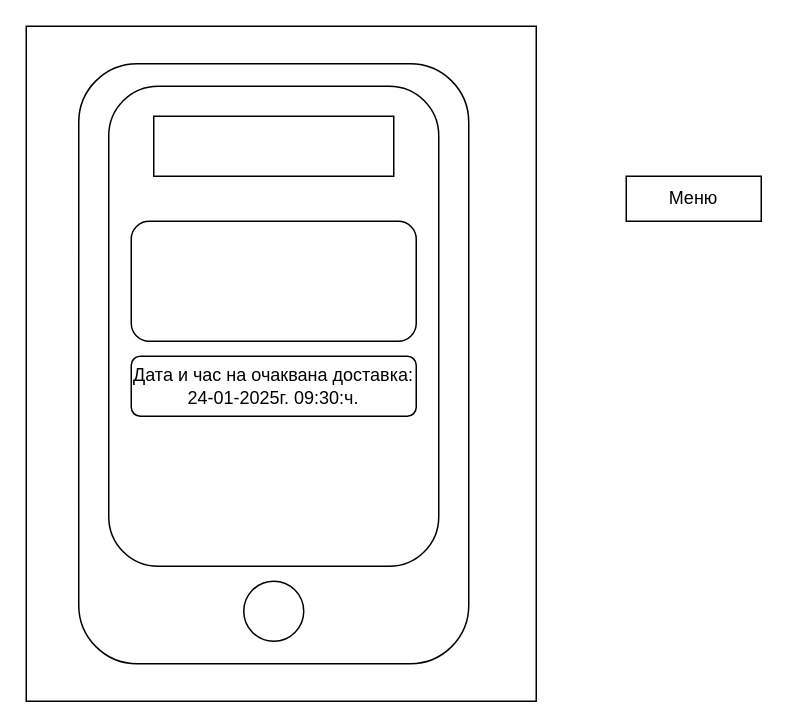
This 788x728 diagram has some shape labels left out. The centre of each missing label's shape, as x and y in pixels:
"Адрес: град. Lorem ipsum ул. Sed ut perspiciatis № 22" belongs at (x=273, y=280).
"Доставка №38310987" belongs at (x=273, y=145).
